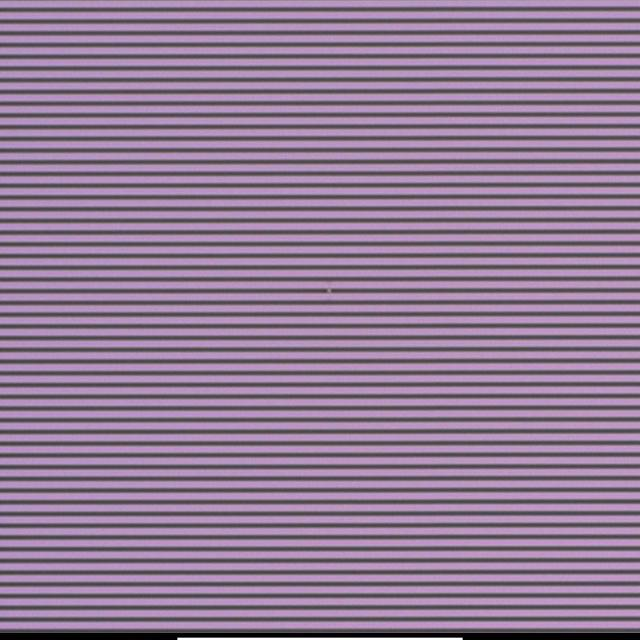03_intrusion: (320, 282, 337, 302)
